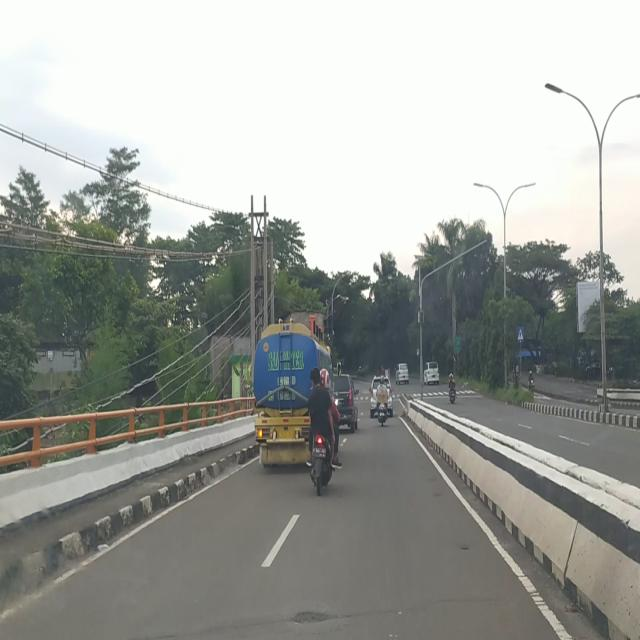Sewer Cover: (178, 608, 344, 638)
